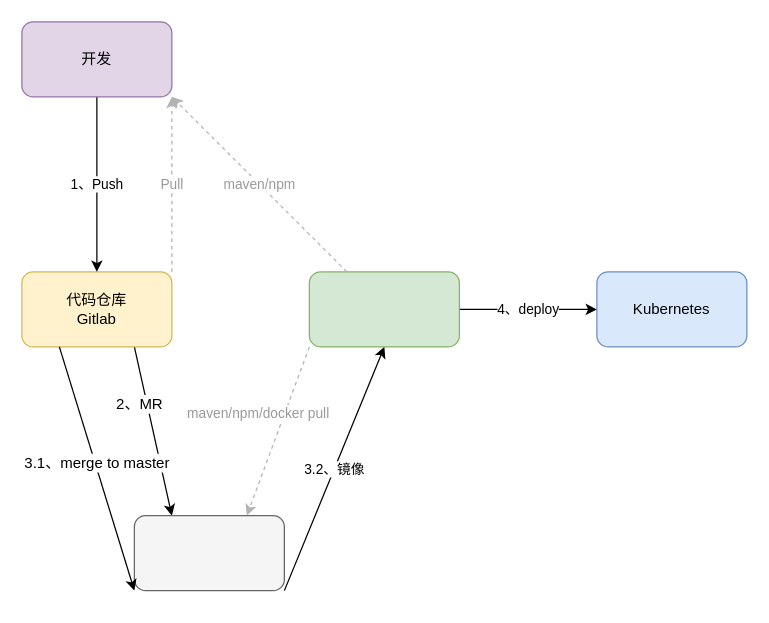
This 769x623 diagram has some shape labels left out. Here are the shapes that lost their labels. From the top down, the centre of each, then its label:
At (x=383, y=309): "制品仓库 Nexus".
At (x=208, y=552): "Jenkins".
